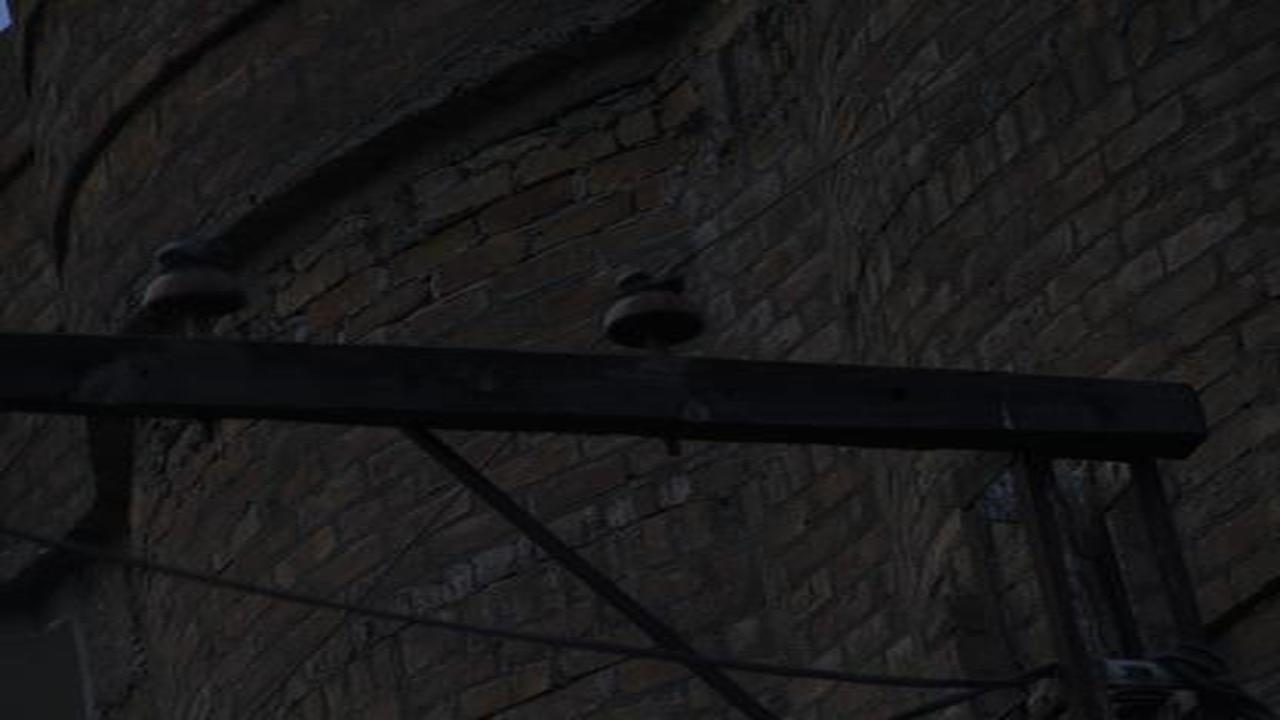insulator_pin: (132, 237, 261, 324), (591, 264, 712, 351)
